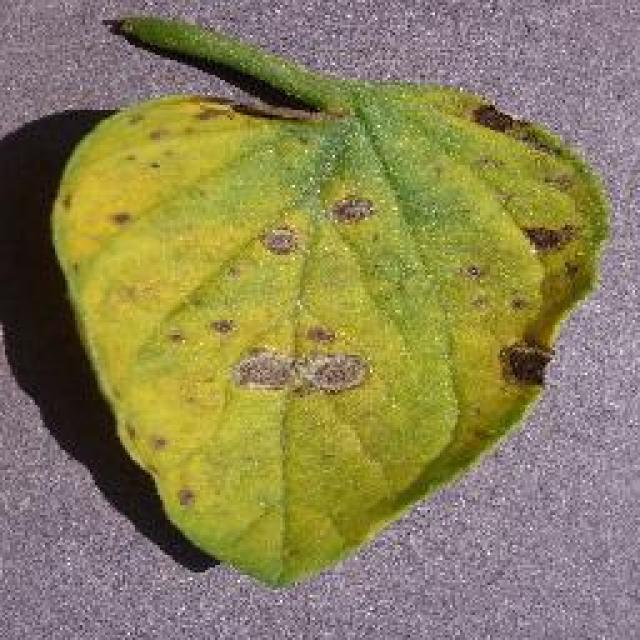Tomato___Septoria_leaf_spot: (50, 18, 608, 582)
